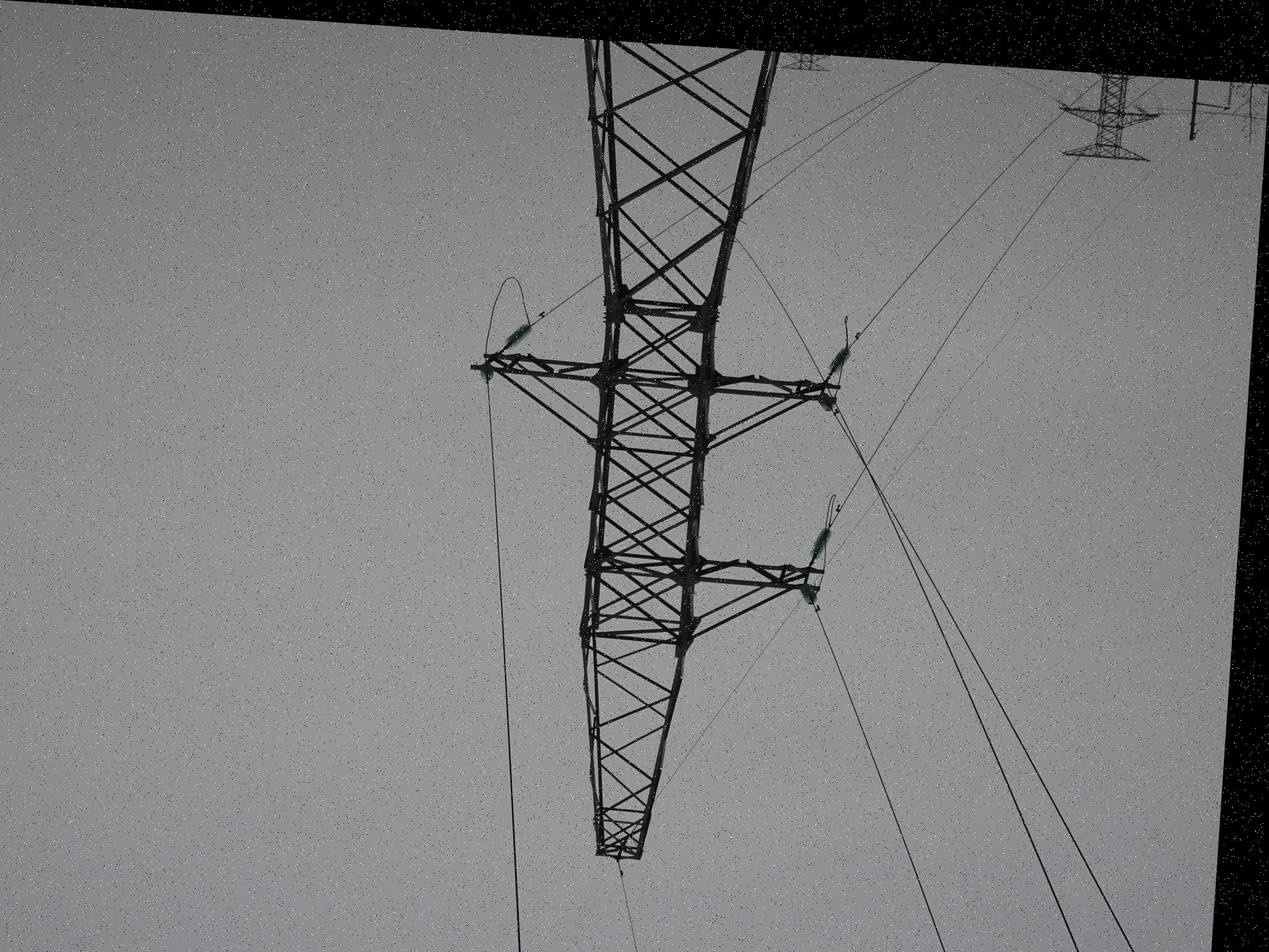tower: (443, 33, 877, 888)
